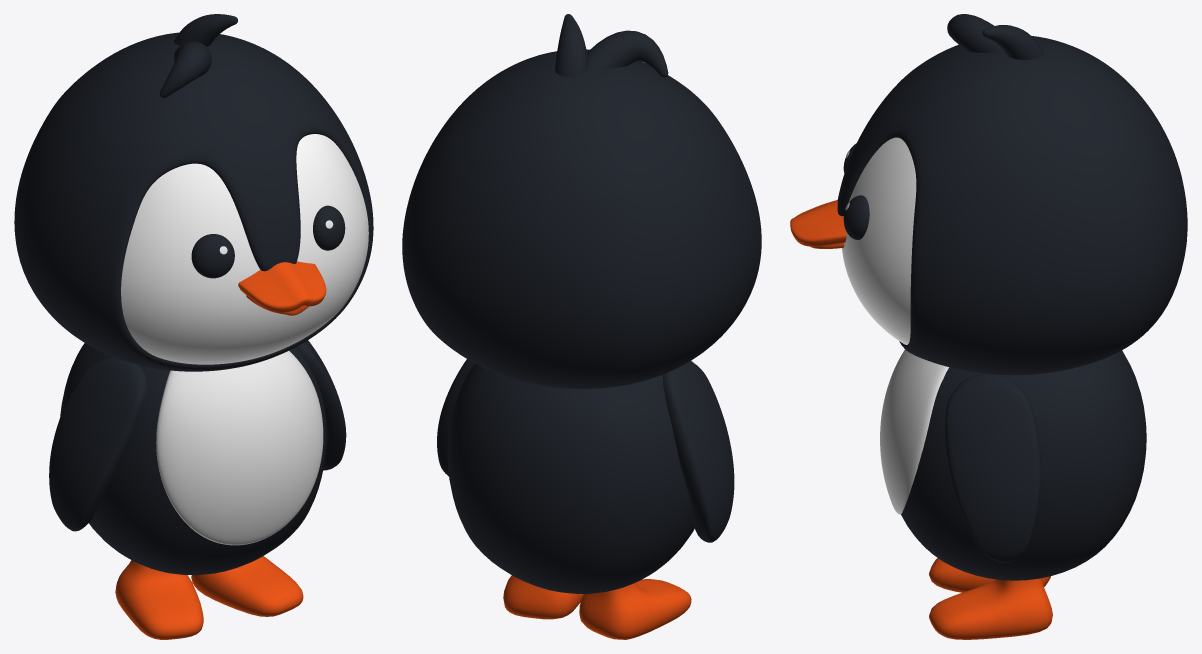
The model's file is Penguin.glb.
3 views of the same model, side by side, from view 1: azimuth 30°, elevation 25°; view 2: azimuth 150°, elevation 25°; view 3: azimuth 270°, elevation 25° (orthographic).
Visible parts, largest first — view 1: Cube.002, Cube, Circle, Cube.003, Plane.002, Cube.005, Plane, NurbsPath, Sphere; view 2: Cube.002, Cube.003, Plane.002, Cube.005, NurbsPath; view 3: Cube.002, Cube.003, Plane.002, Cube, Cube.005, Circle, NurbsPath, Plane, Sphere.
Boxes of the visible parts, x1,y1,x2,y2 form: Cube.002: [14, 32, 373, 371]; Cube: [121, 134, 368, 364]; Circle: [156, 351, 323, 545]; Cube.003: [60, 343, 326, 575]; Plane.002: [49, 340, 346, 531]; Cube.005: [115, 556, 303, 639]; Plane: [238, 261, 326, 315]; NurbsPath: [159, 14, 237, 98]; Sphere: [191, 205, 345, 278]; Cube.002: [402, 49, 761, 388]; Cube.003: [447, 363, 694, 593]; Plane.002: [437, 359, 734, 542]; Cube.005: [503, 575, 691, 639]; NurbsPath: [555, 14, 668, 77]; Cube.002: [837, 36, 1187, 375]; Cube.003: [901, 350, 1146, 580]; Plane.002: [945, 373, 1040, 562]; Cube: [841, 137, 916, 344]; Cube.005: [929, 558, 1052, 639]; Circle: [880, 349, 948, 514]; NurbsPath: [947, 14, 1043, 59]; Plane: [790, 200, 846, 248]; Sphere: [843, 143, 869, 239].
Size of the model in its own units: 1.64 by 3.04 by 1.85.
